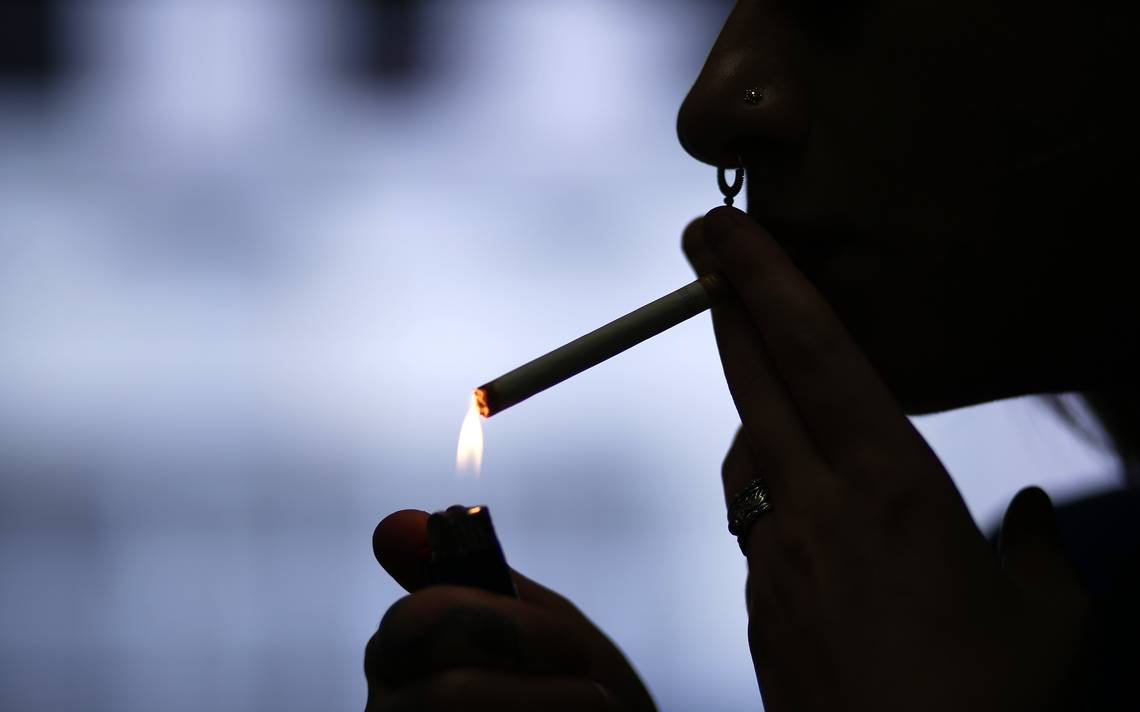cigarette: (405, 234, 775, 472)
